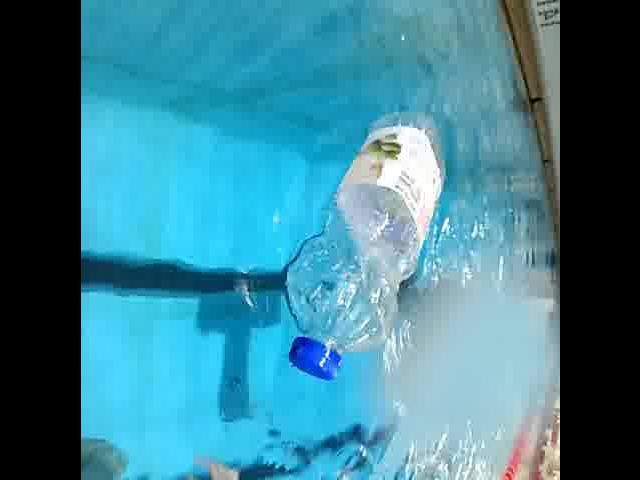Bottle: (256, 101, 456, 404)
